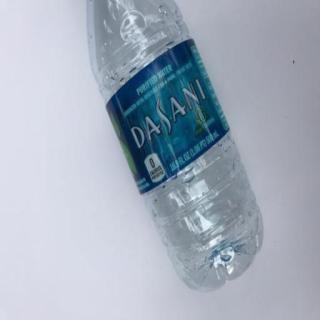Plastic-bottle: (85, 1, 267, 296)
